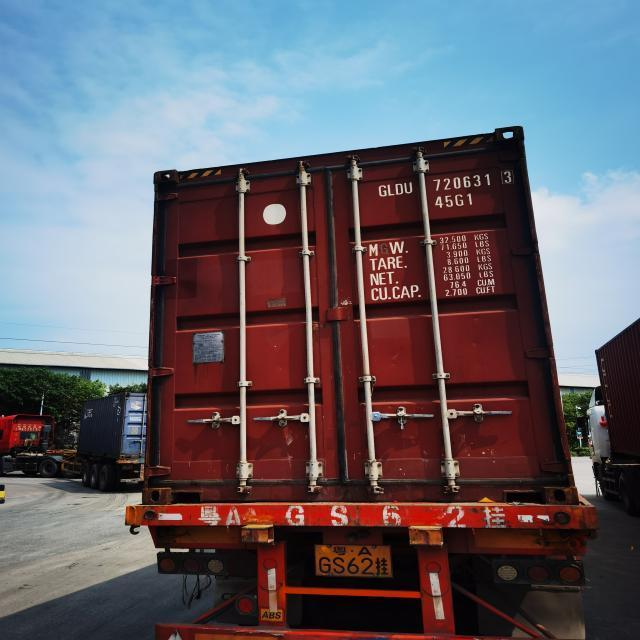ISO: (435, 192, 474, 210)
container_number: (374, 168, 520, 190)
